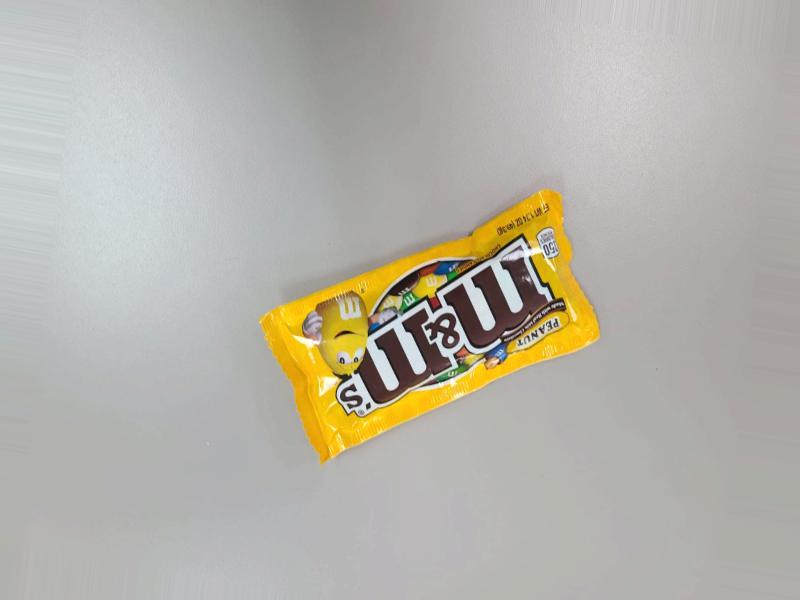m&m: (275, 182, 604, 461)
